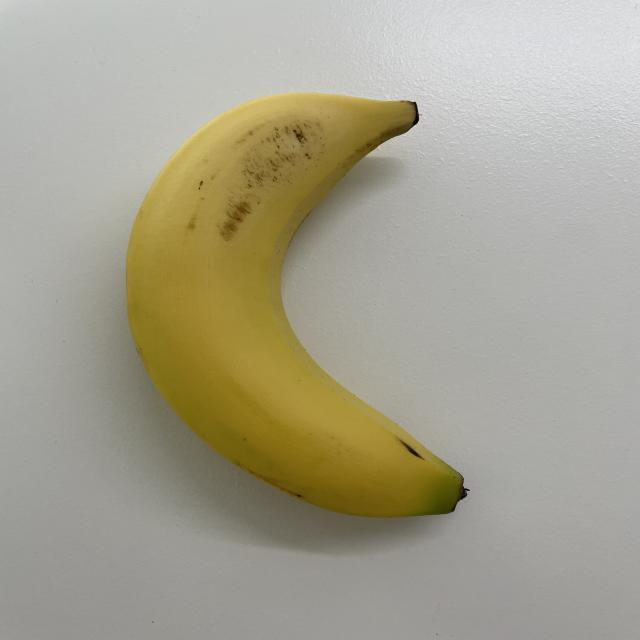Banana: (124, 86, 476, 528)
